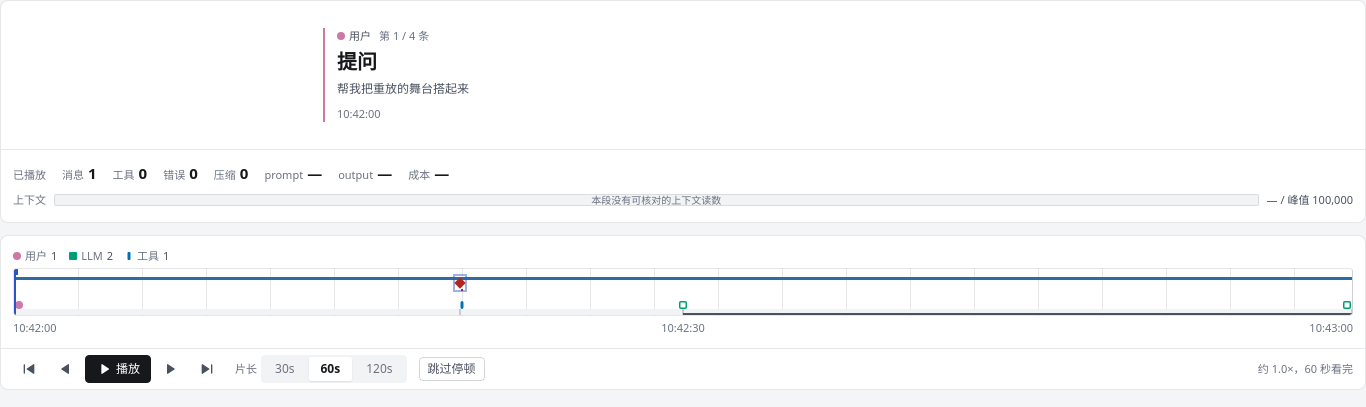
ReplayView — playback and the film › jumps the head to a mark instead of restarting the film
Step 1. Click the button named "首次失败 · 工具 · npm test" → {"x": 460, "y": 283}, box [456, 277, 464, 289]
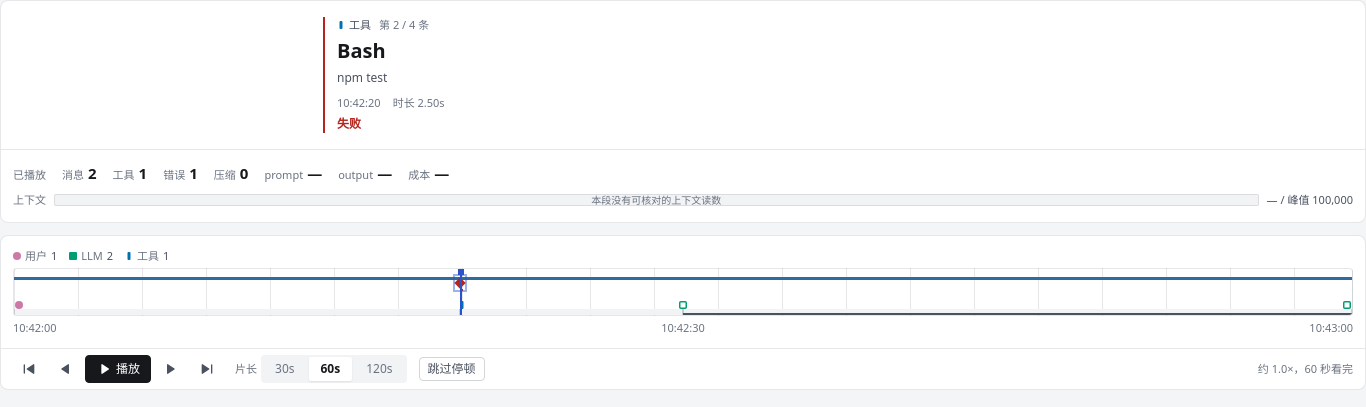
Check: the text "第 2 / 4 条" is shown, box [379, 17, 429, 33]
Check: the text "10:42:20" is shown, box [337, 95, 381, 111]
Check: the element showing "错误 1" is shown, box [163, 162, 198, 184]
